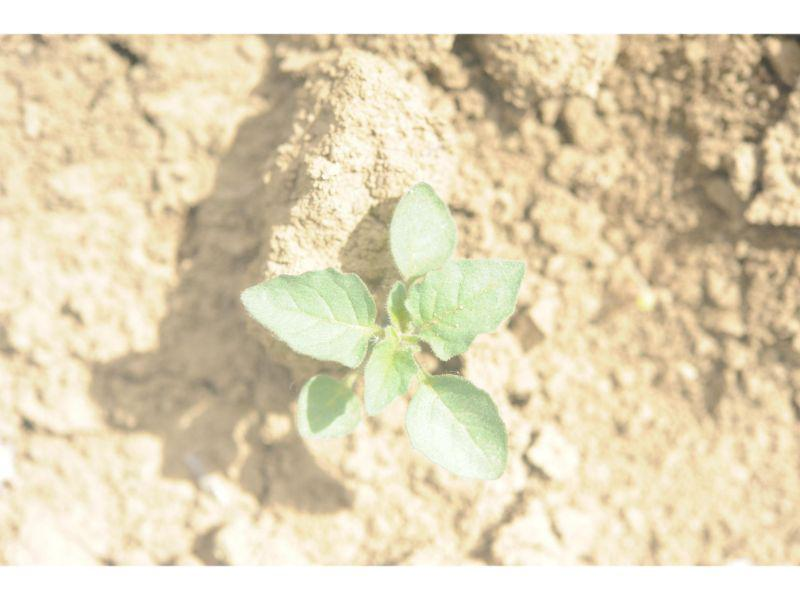nightshade: (240, 179, 525, 480)
